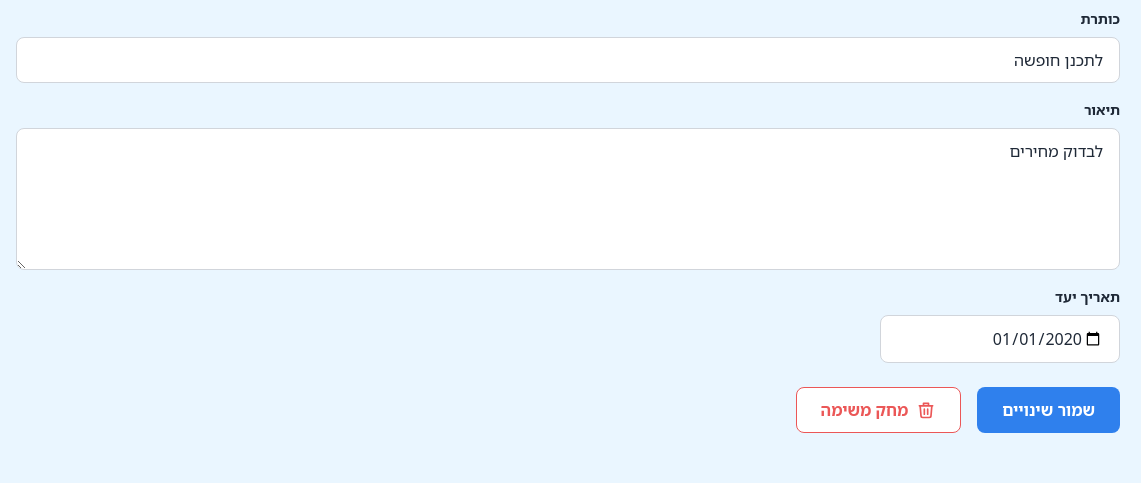
Test: TaskDetails › blocks changing a passed due date to another past date
The width and height of the screenshot is (1141, 483).
Type "2020-01-02" into the date field labelled "תאריך יעד" at (1000, 339), box [880, 315, 1120, 363]
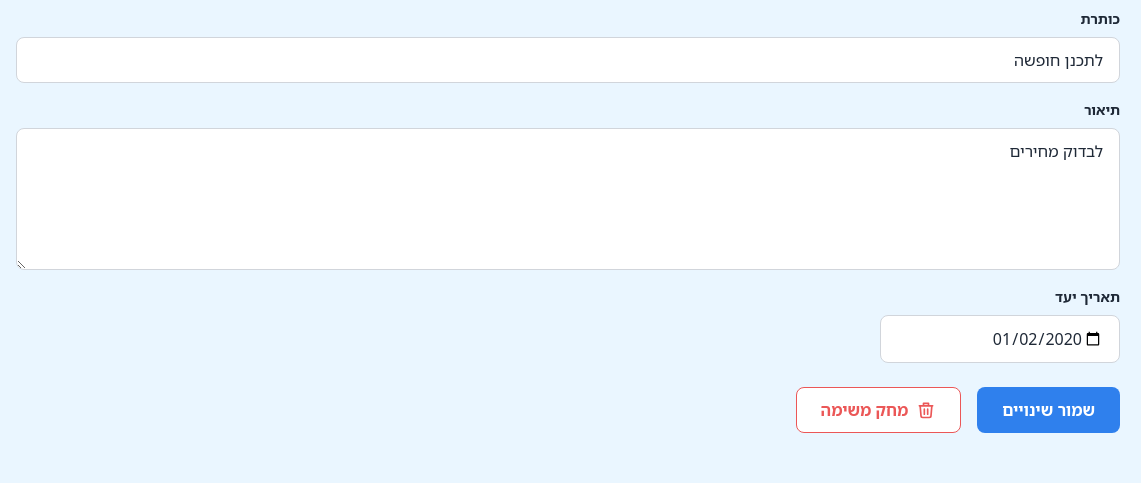
Click the button "שמור שינויים" at (1049, 410), box [977, 387, 1120, 433]
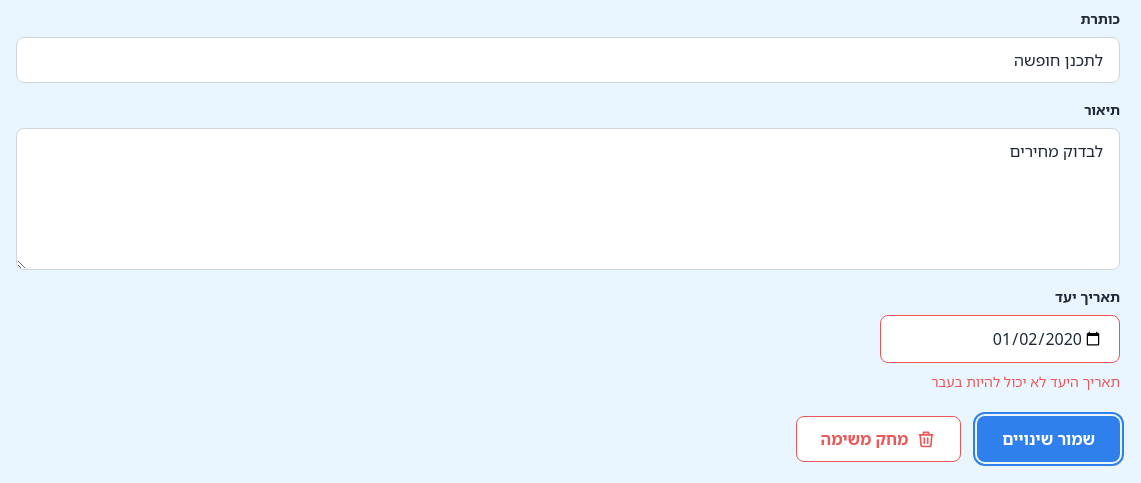
Now the text "תאריך היעד לא יכול להיות בעבר" is shown, box [931, 372, 1120, 391]
